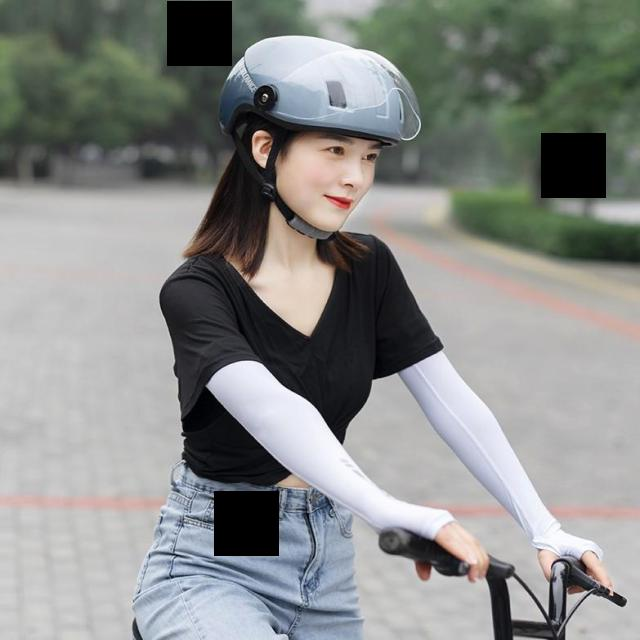Helmet: (220, 31, 424, 241)
